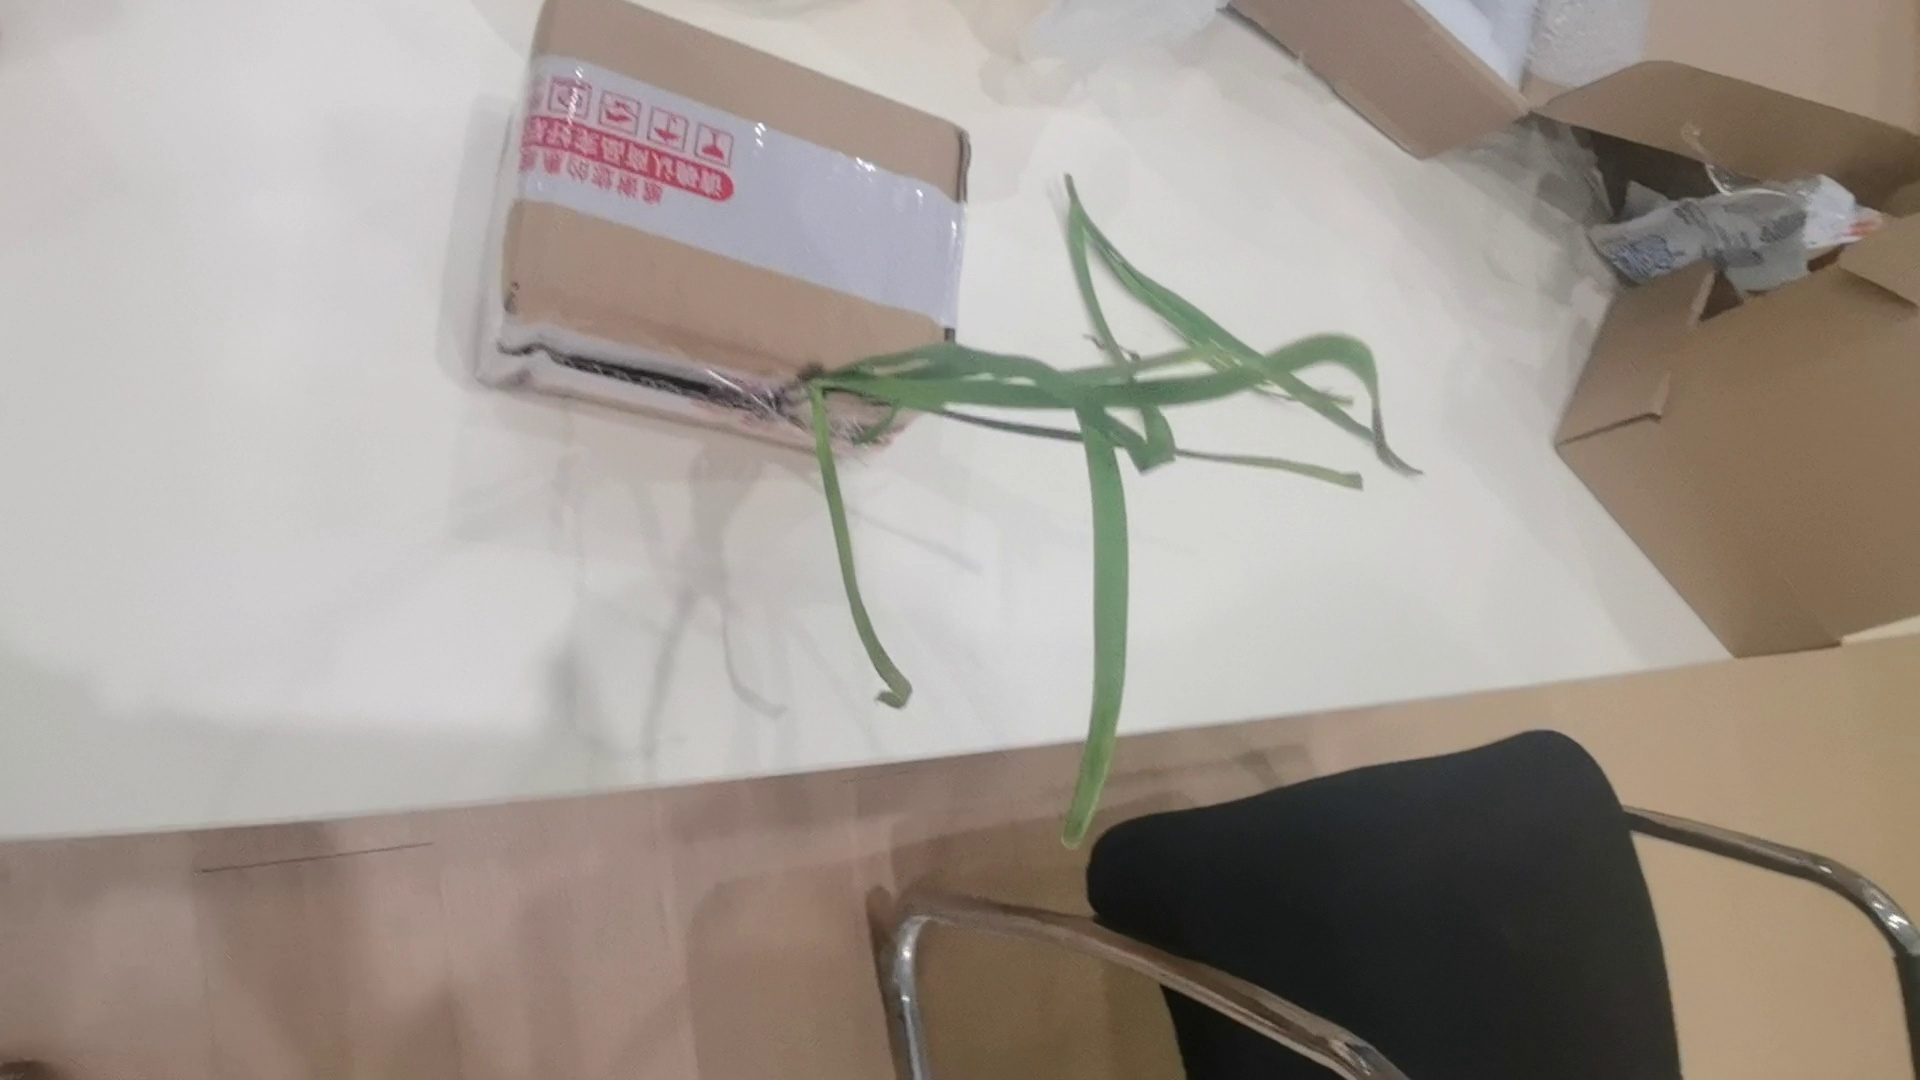chives: (781, 328, 1505, 856), (1048, 165, 1444, 326)
